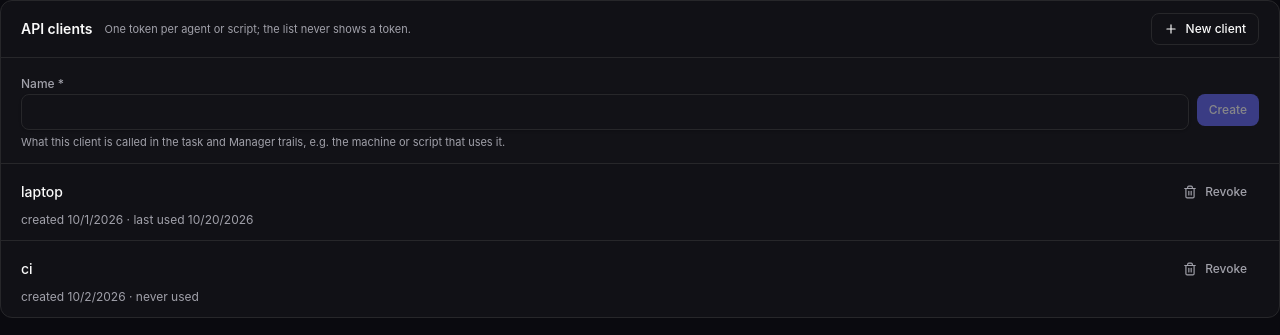
Test: API clients settings › asks before it revokes, then revokes and reloads
The image size is (1280, 335).
Click the button with aria-label "Revoke API client laptop": (1215, 192) [1171,176,1259,208]
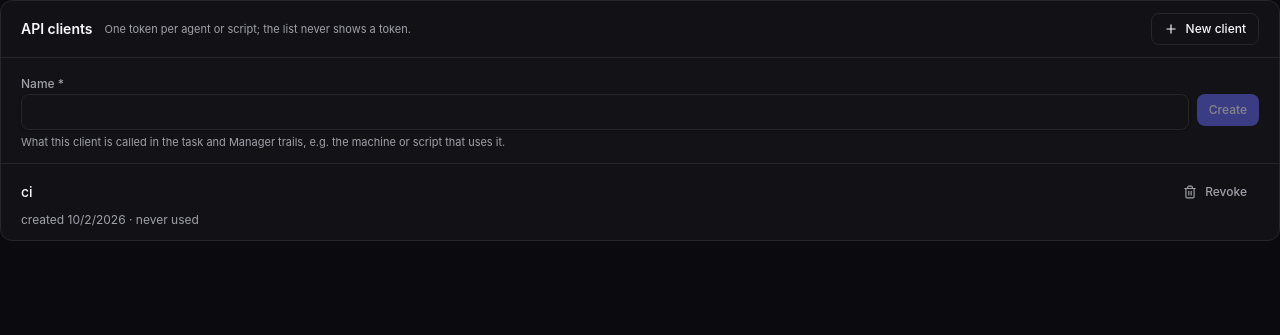
Check: the text "laptop" is gone
